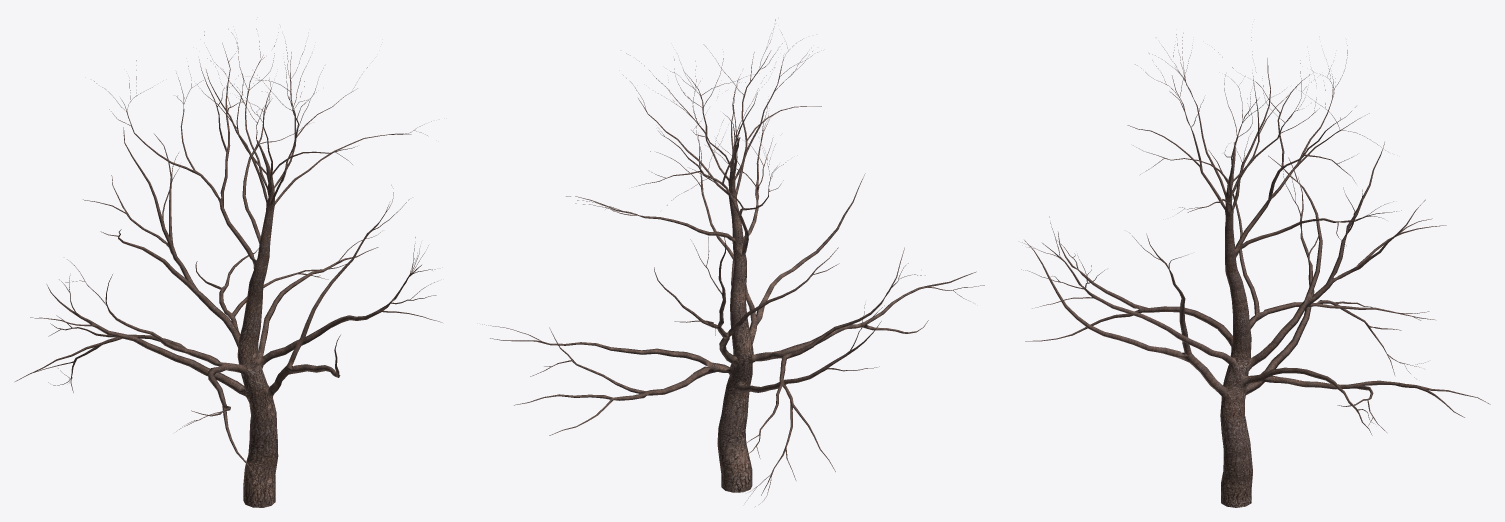
The model's file is new_tree.glb.
The picture shows the model from 3 angles, left to right: view 1: azimuth 30°, elevation 25°; view 2: azimuth 150°, elevation 25°; view 3: azimuth 270°, elevation 25°; orthographic projection. The views are drawn at different scales.
Visible parts, largest first — view 1: tree; view 2: tree; view 3: tree.
Boxes of the visible parts, x1,y1,x2,y2 form: tree: (15, 29, 442, 507); tree: (482, 19, 984, 506); tree: (1021, 33, 1490, 507).
Bounding box in the file's own units: 3.91 × 4.36 × 4.1.
1 material, 1 textured.
